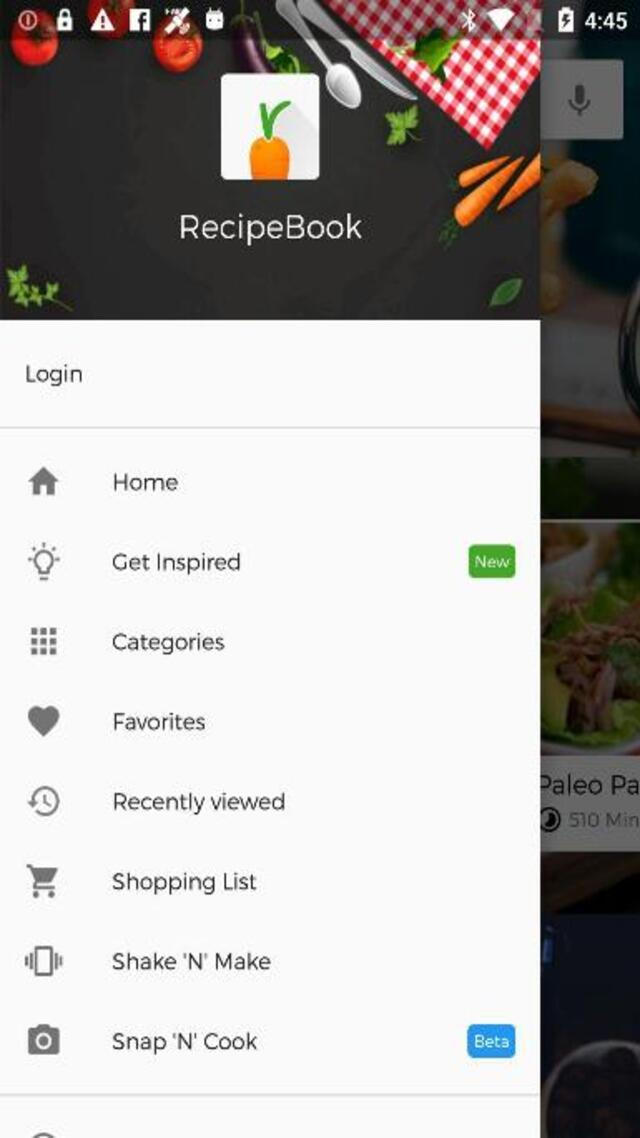Icon: (26, 542, 59, 581), (24, 945, 62, 975), (26, 863, 58, 897), (27, 704, 59, 736), (26, 785, 59, 815), (27, 1024, 59, 1054), (27, 465, 59, 495), (29, 626, 56, 654)
Image: (0, 40, 539, 319), (220, 74, 318, 178)
Text: (180, 213, 362, 246), (114, 792, 285, 815), (112, 1030, 257, 1054), (112, 872, 257, 895), (112, 950, 270, 970), (112, 552, 240, 575), (112, 632, 225, 655), (114, 712, 205, 732), (26, 364, 84, 386), (114, 473, 179, 491)
TextButton: (468, 1023, 516, 1057), (468, 545, 516, 579)
